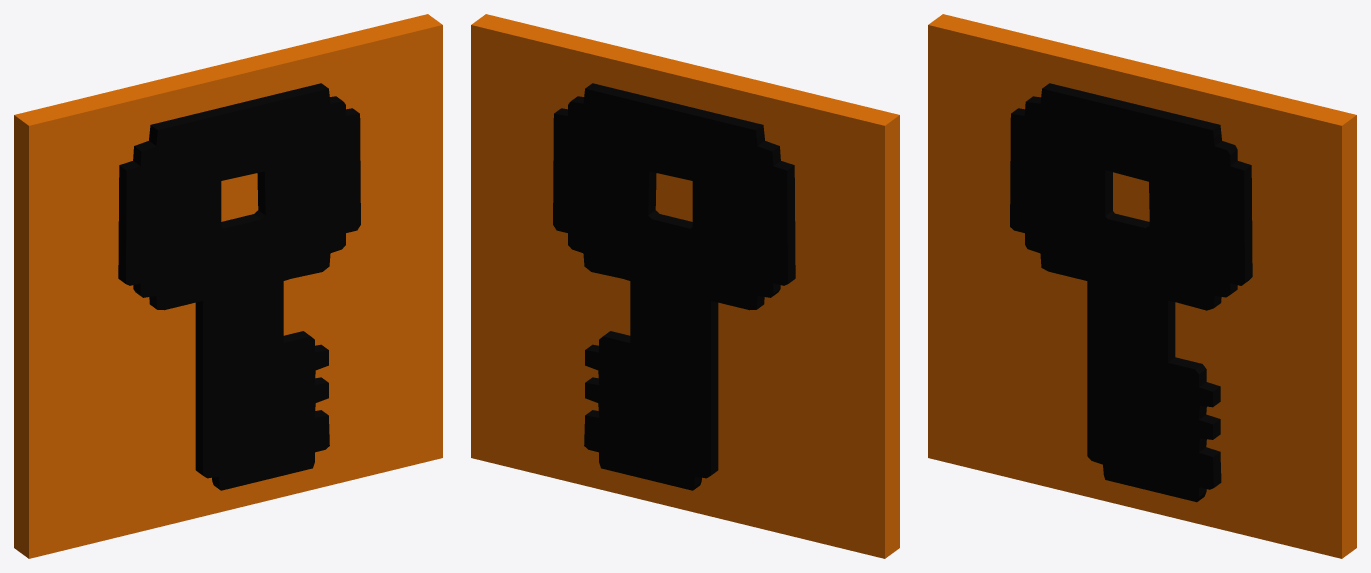
The model's file is keyIcon.fbx.
3 renders of one model, left to right at view 1: azimuth 30°, elevation 25°; view 2: azimuth 150°, elevation 25°; view 3: azimuth 330°, elevation 25°, orthographic.
Visible parts, largest first — view 1: obj_0; view 2: obj_0; view 3: obj_0.
Part boxes in pixels (x1,y1,x2,y2): obj_0: [14, 14, 442, 558]; obj_0: [471, 14, 899, 558]; obj_0: [928, 14, 1356, 558].
Size of the model in its own units: 8000 by 8000 by 1000.
